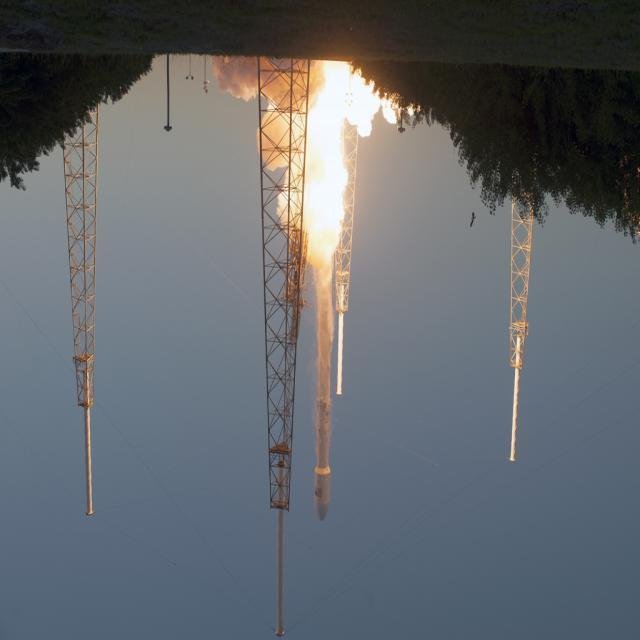missile: (312, 260, 341, 530)
